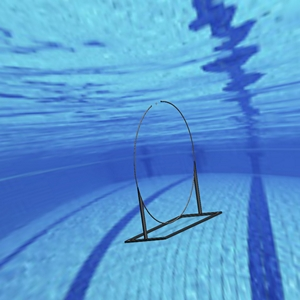circle: (125, 99, 223, 244)
